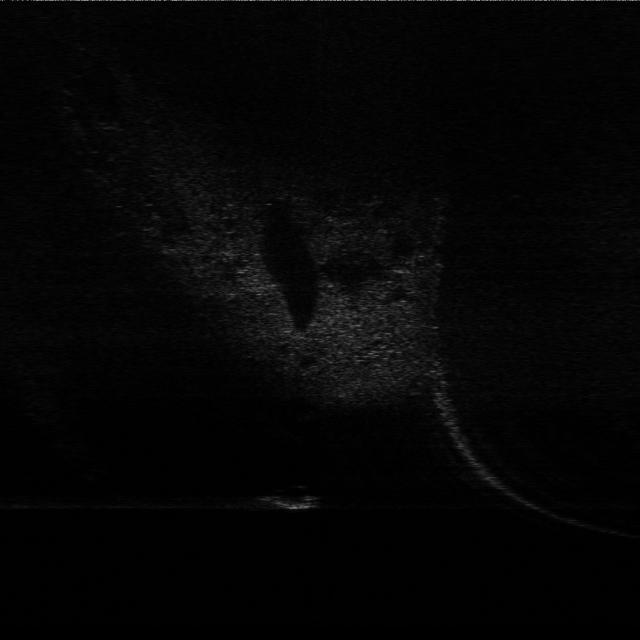square cage: (244, 482, 324, 520)
